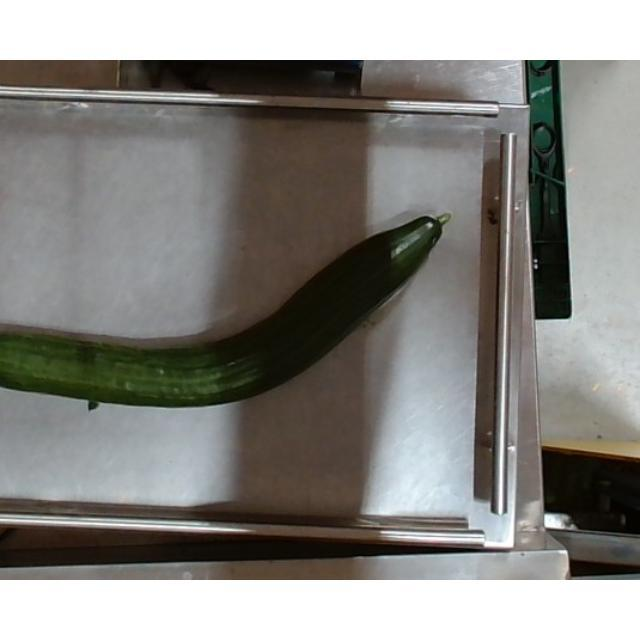cucumber: (0, 212, 458, 412)
